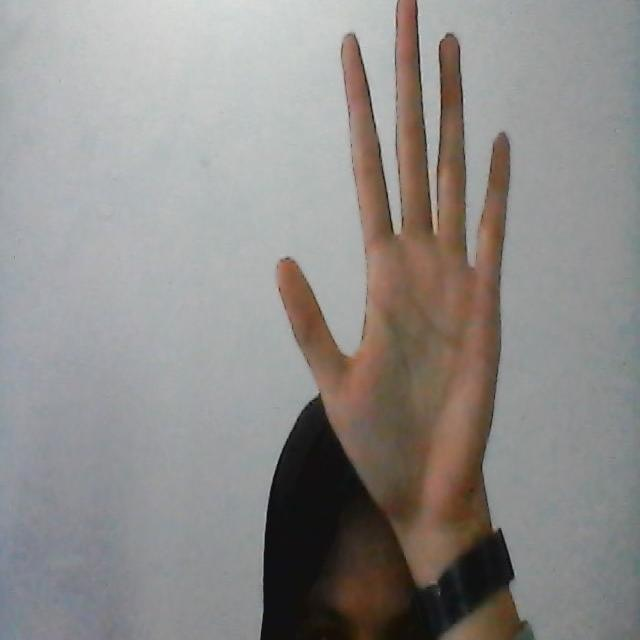hand: (278, 0, 514, 536)
